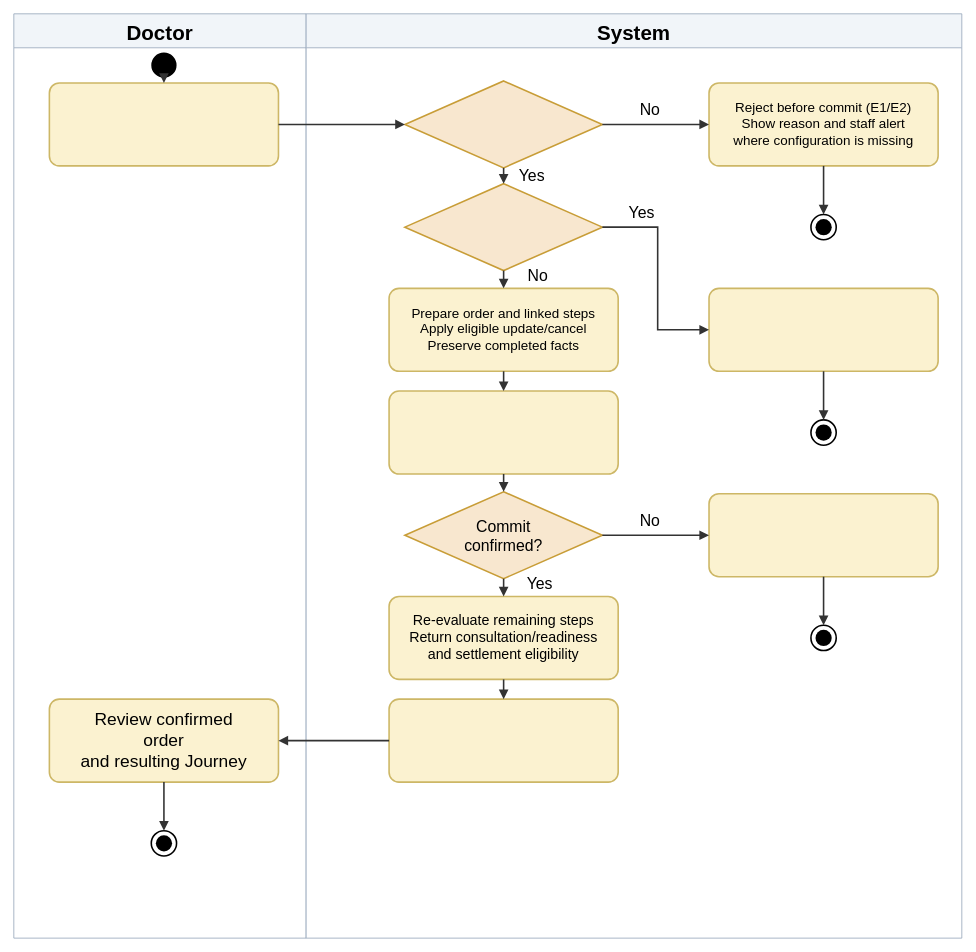
Some shapes in this 976 by 952 pixel diagram are drawn without their labels. The centre of each missing label's shape, as x and y in pixels:
"Authorized Active Visit and valid mapping?" goes at pixel 503 124.
"Commit order and Journey as one consistent operation" goes at pixel 503 432.
"Conflict/save failure (E3) Reload confirmed state Retry without duplicates" goes at pixel 823 535.
"Open assigned Active Visit Select service/order change" goes at pixel 163 124.
"Publish refreshed Journey and supported notification to Patient" goes at pixel 503 740.
"Require authorized service resolution (A3) Do not delete started work" goes at pixel 823 329.
"Started service affected?" goes at pixel 503 226.
